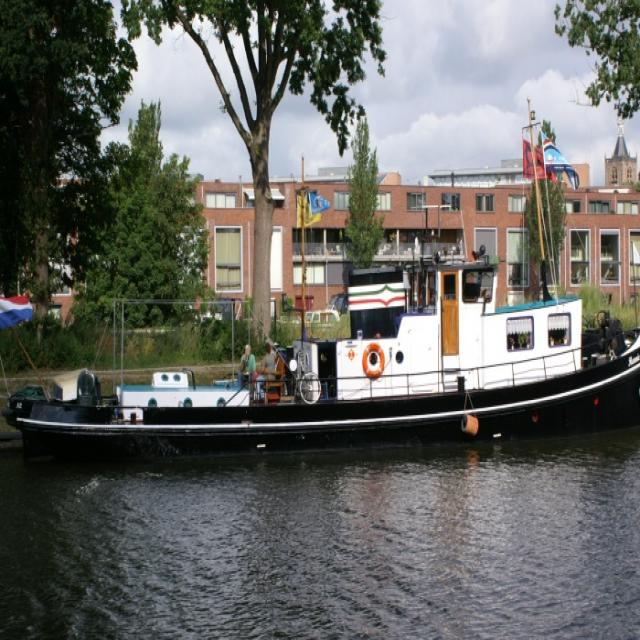tugboat: (1, 247, 640, 472)
